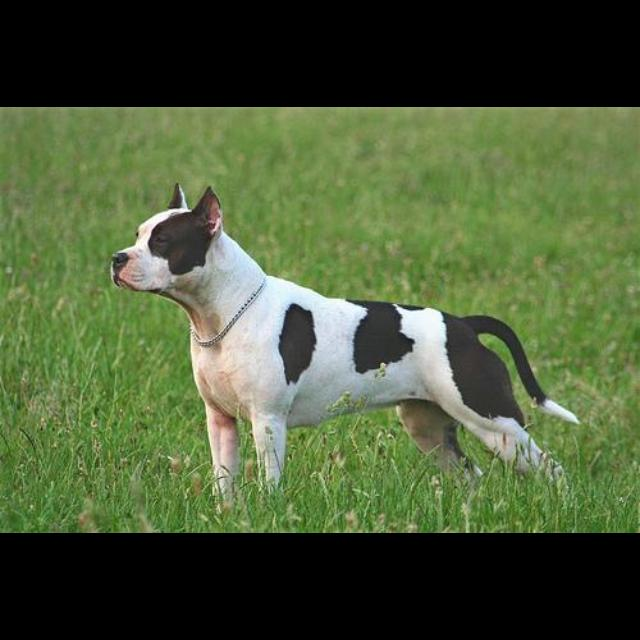amstaff: (110, 183, 581, 515)
